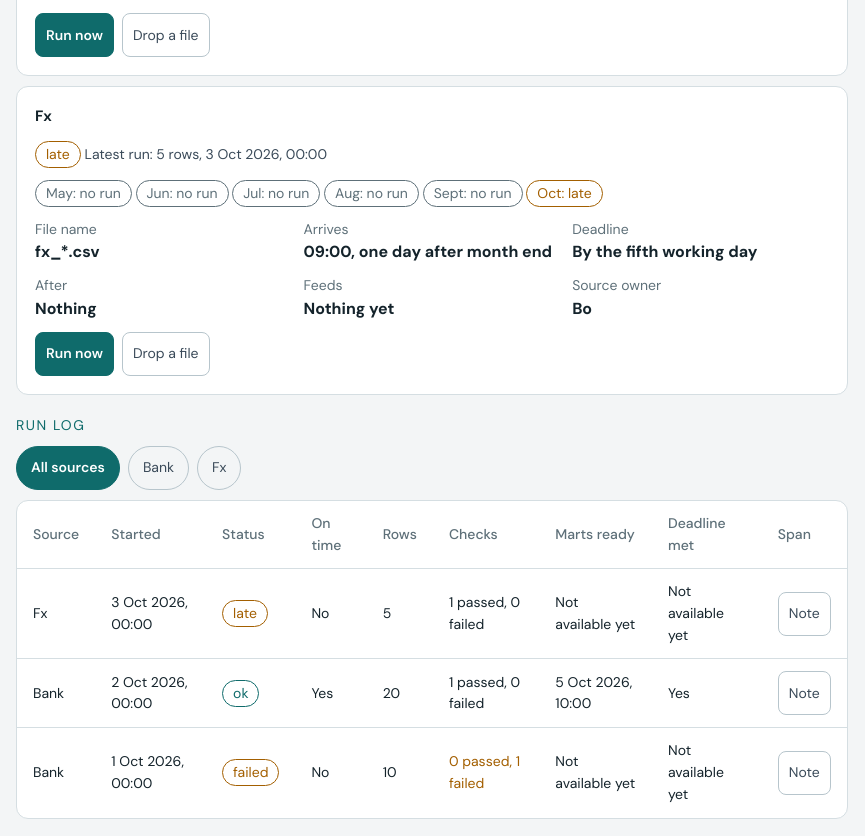
Test case: Pipelines page › the log renders statuses, newest first, and filters
(page scrolled)
Expected: the row that starts with "3 Oct 2026, 00:00" shows "Fx", [33,604,47,622]
Expected: the row that starts with "3 Oct 2026, 00:00" shows "late", [233,604,257,622]
Click the button "Fx".
click(219, 468)  # box [197,446,241,490]
(page scrolled)
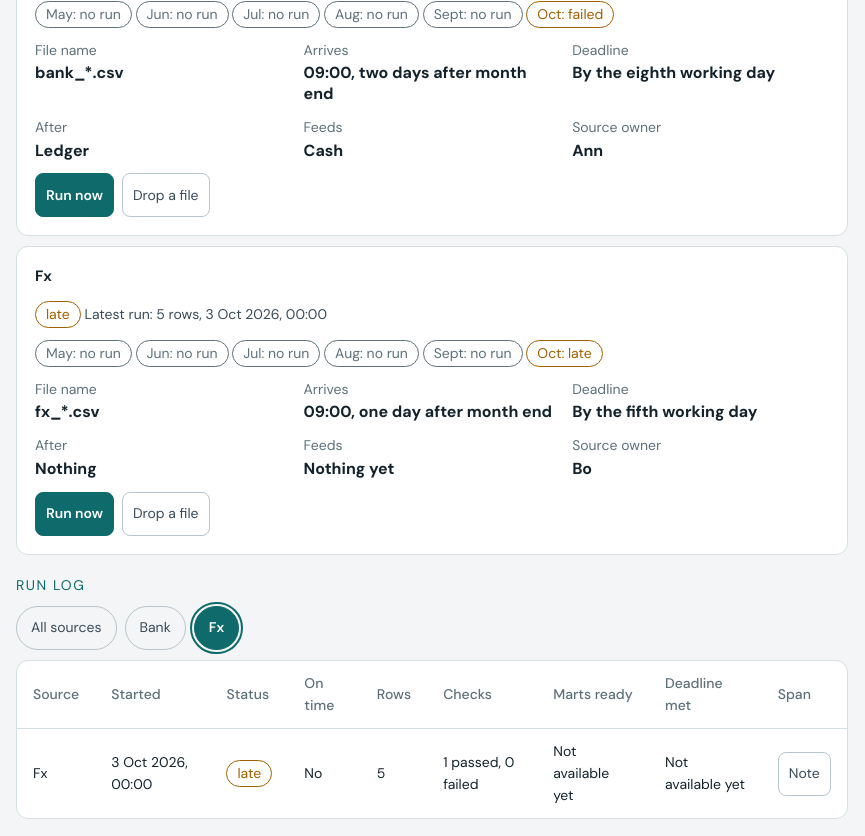
Expected: the number of rows is 2, [17,661,847,729]; [17,729,847,818]
